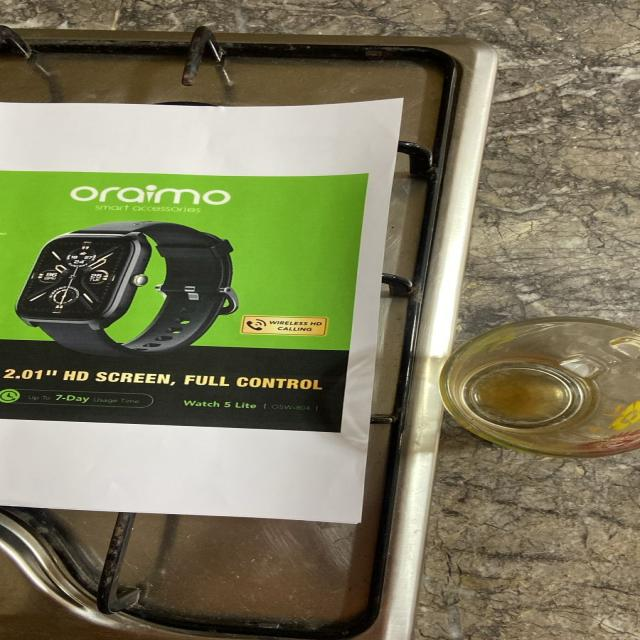Watch 5 Lite OSW-804: (180, 397, 323, 413)
